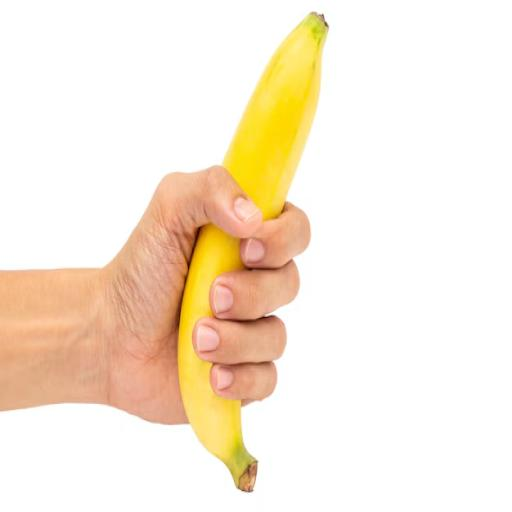banana: (179, 230, 255, 480)
